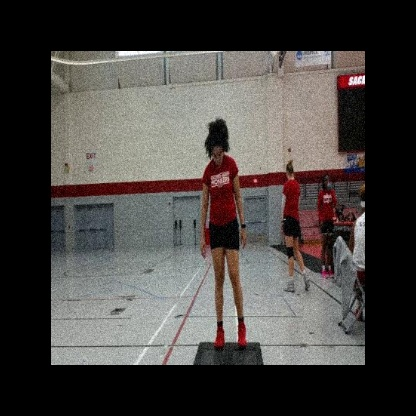lateral_flexion_normal: (197, 115, 250, 353)
stance_width_narrow: (198, 153, 249, 352)
